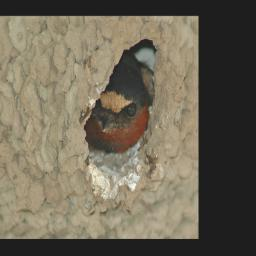Swallow: (84, 52, 151, 154)
